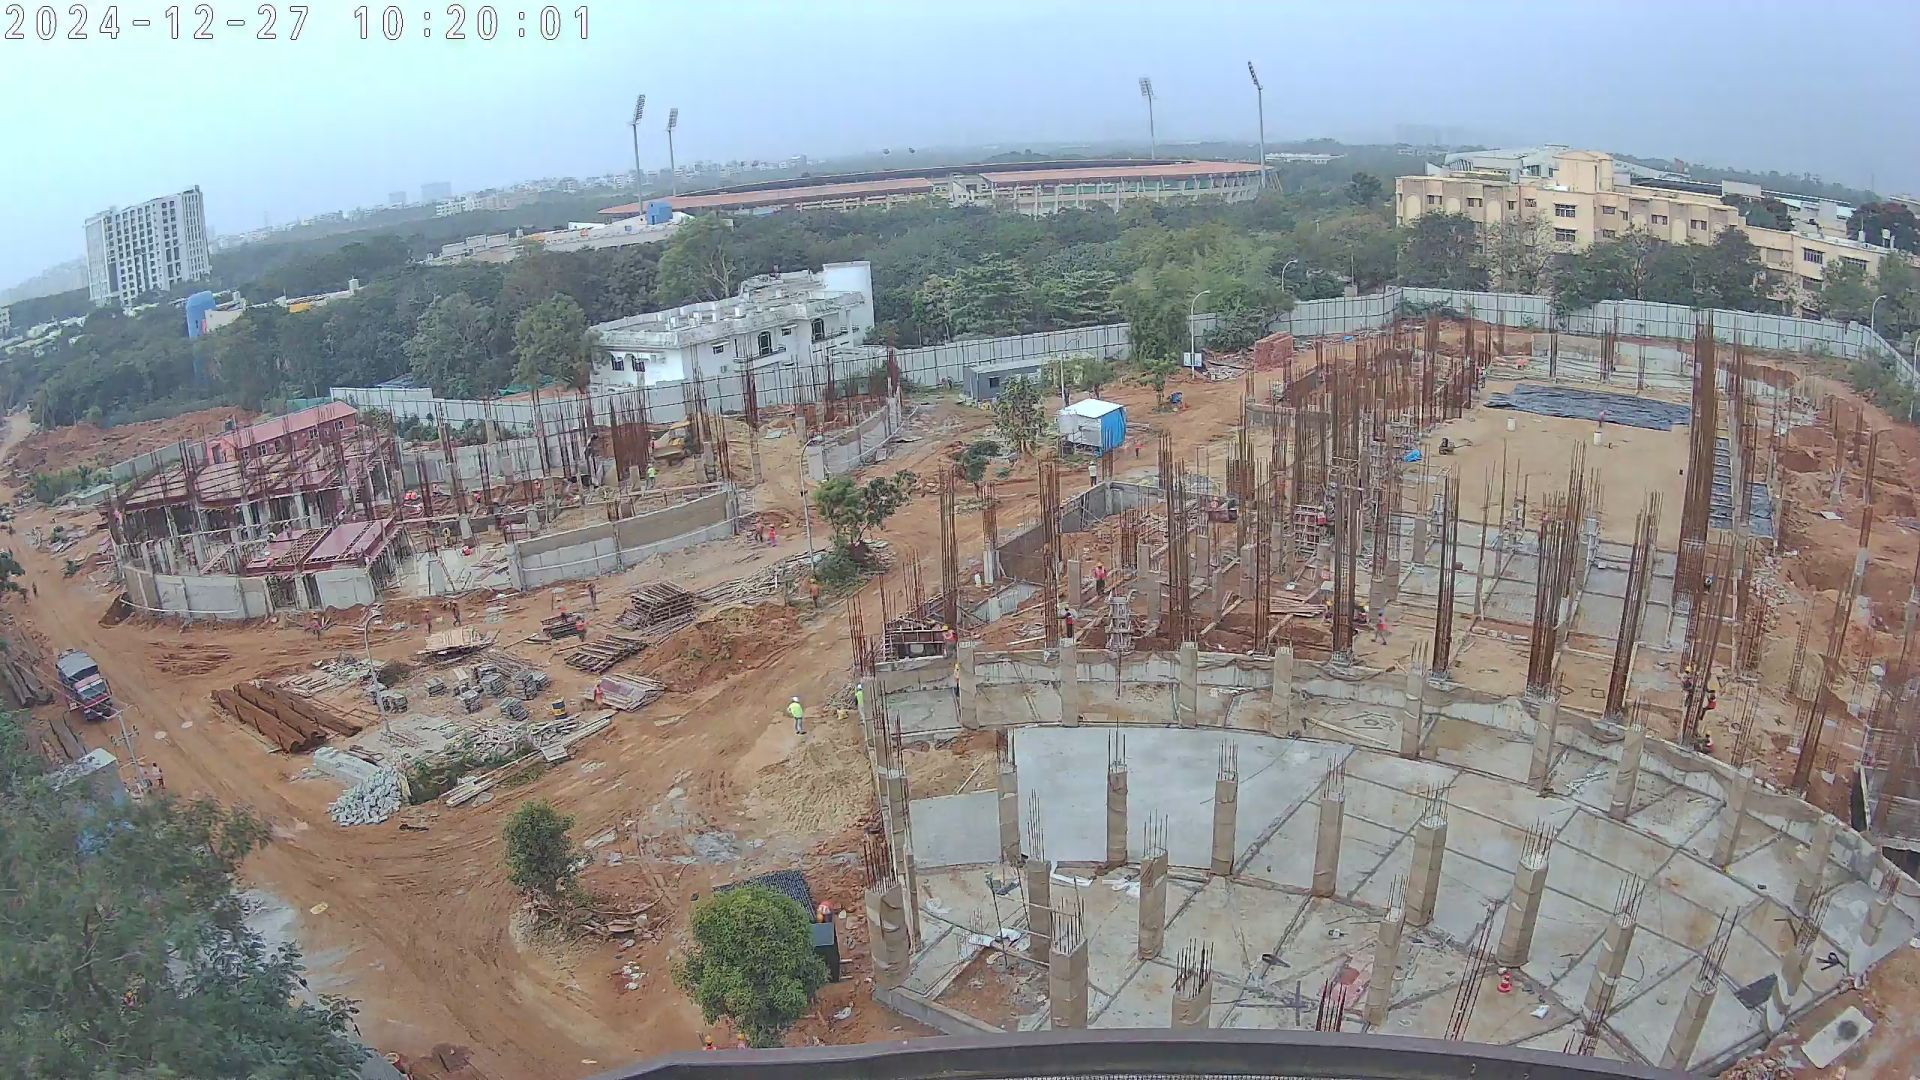bulldozer: (646, 423, 703, 461)
truck: (56, 650, 116, 728)
worker: (806, 898, 837, 923), (1369, 610, 1387, 650), (592, 676, 611, 711), (1090, 560, 1106, 600), (573, 616, 589, 654), (806, 570, 820, 610), (583, 580, 601, 611), (450, 596, 466, 630), (150, 761, 169, 789), (1683, 659, 1694, 707), (1705, 680, 1718, 720), (1060, 601, 1074, 638), (789, 693, 801, 734), (1084, 456, 1100, 486), (942, 624, 958, 654), (313, 613, 327, 644), (750, 516, 764, 546), (1130, 433, 1143, 464), (138, 759, 150, 792), (644, 460, 657, 490), (853, 683, 867, 710), (421, 608, 434, 633), (1477, 365, 1490, 389), (768, 523, 780, 548), (1704, 574, 1716, 599), (1703, 730, 1716, 753), (1320, 562, 1333, 584), (442, 525, 452, 550), (29, 576, 40, 598), (558, 600, 567, 626), (460, 540, 472, 559), (530, 480, 541, 500), (1597, 408, 1608, 428), (1208, 497, 1220, 515), (1316, 506, 1325, 528), (265, 527, 277, 543), (497, 515, 508, 532), (471, 494, 481, 507), (413, 490, 424, 501), (403, 491, 411, 503)
